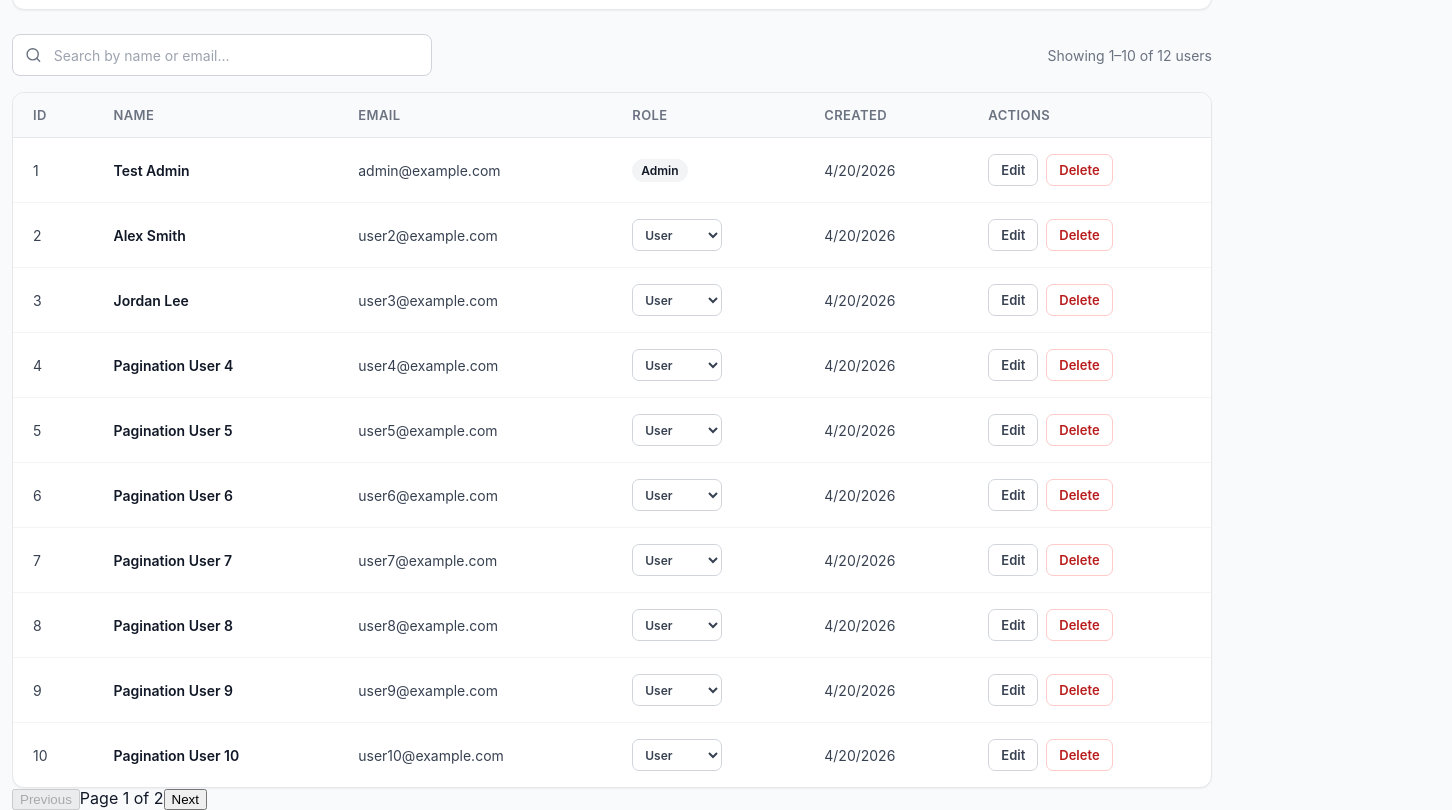
it: Users page › moves between pages
(page scrolled)
Expected: the text "Showing 1–10 of 12 users" is shown, [1048, 46, 1212, 64]
Expected: the text "Pagination User 10" is shown, [94, 722, 338, 787]
Click the button "Next": (185, 800) [164, 789, 207, 809]
(page scrolled)
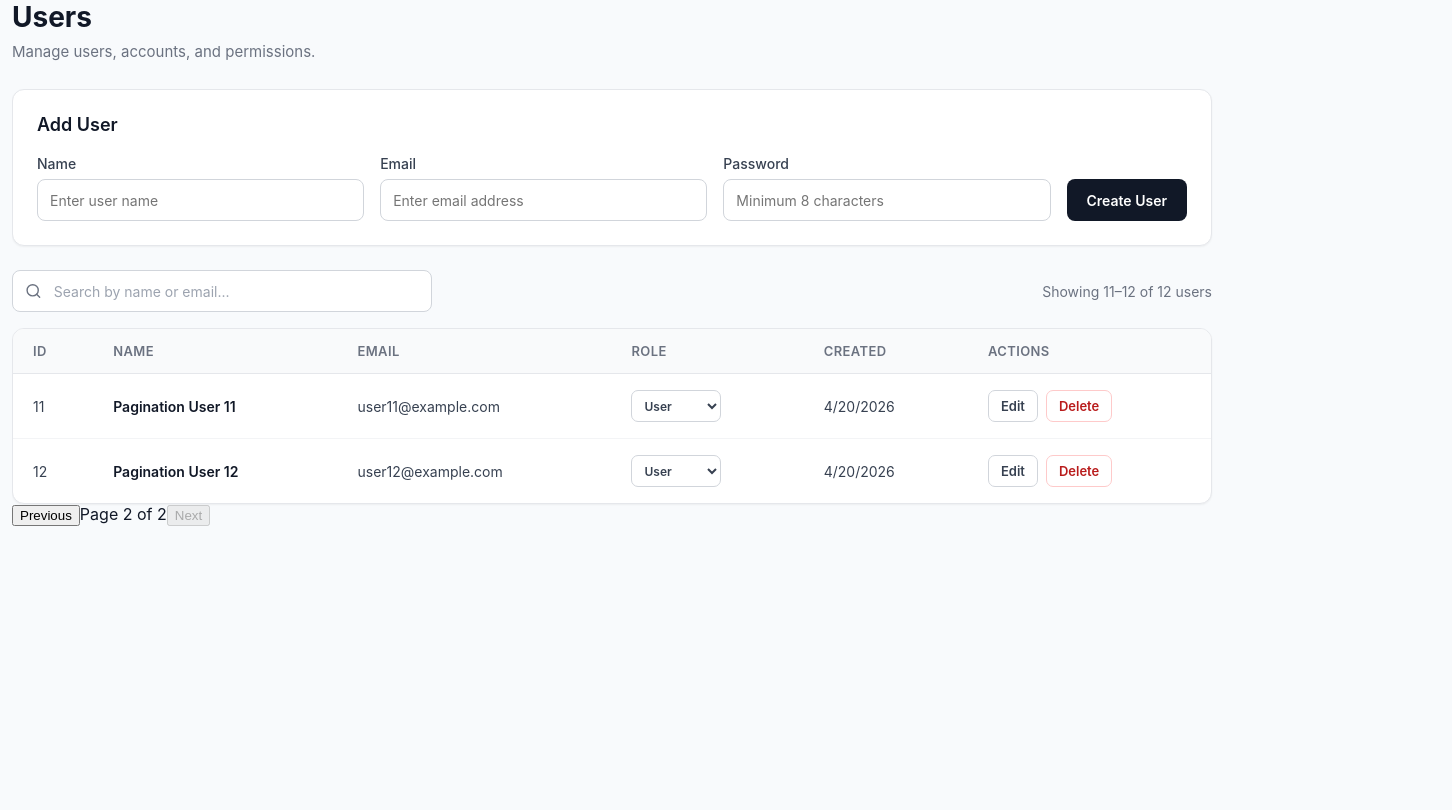
Result: the text "Pagination User 11" is shown at [93, 374, 338, 438]
Result: the text "Showing 11–12 of 12 users" is shown at [1042, 282, 1212, 300]
Result: the text "Pagination User 10" is gone
Click the button "Previous": (46, 516) [12, 505, 80, 526]
(page scrolled)
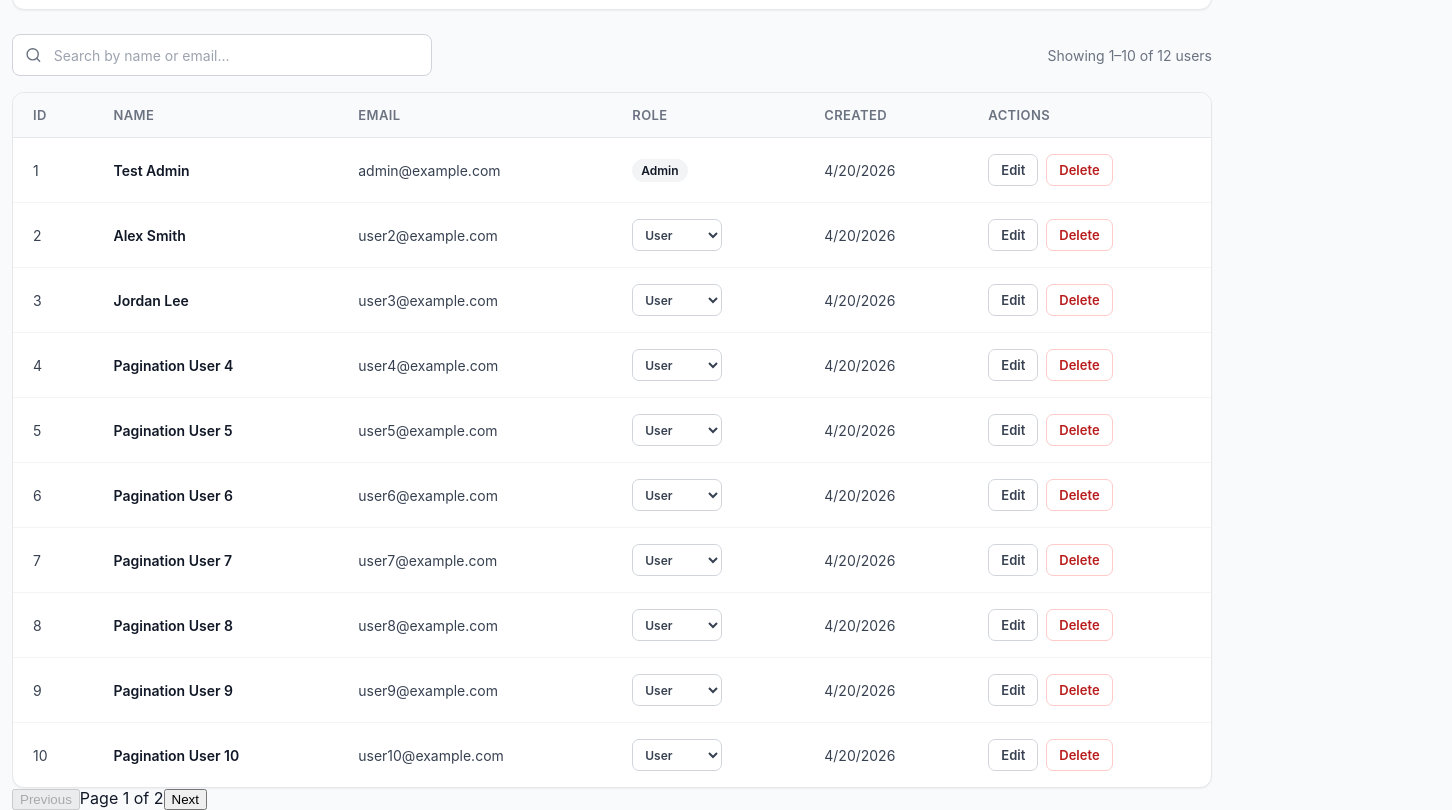
Result: the text "Pagination User 10" is shown at [94, 722, 338, 787]
